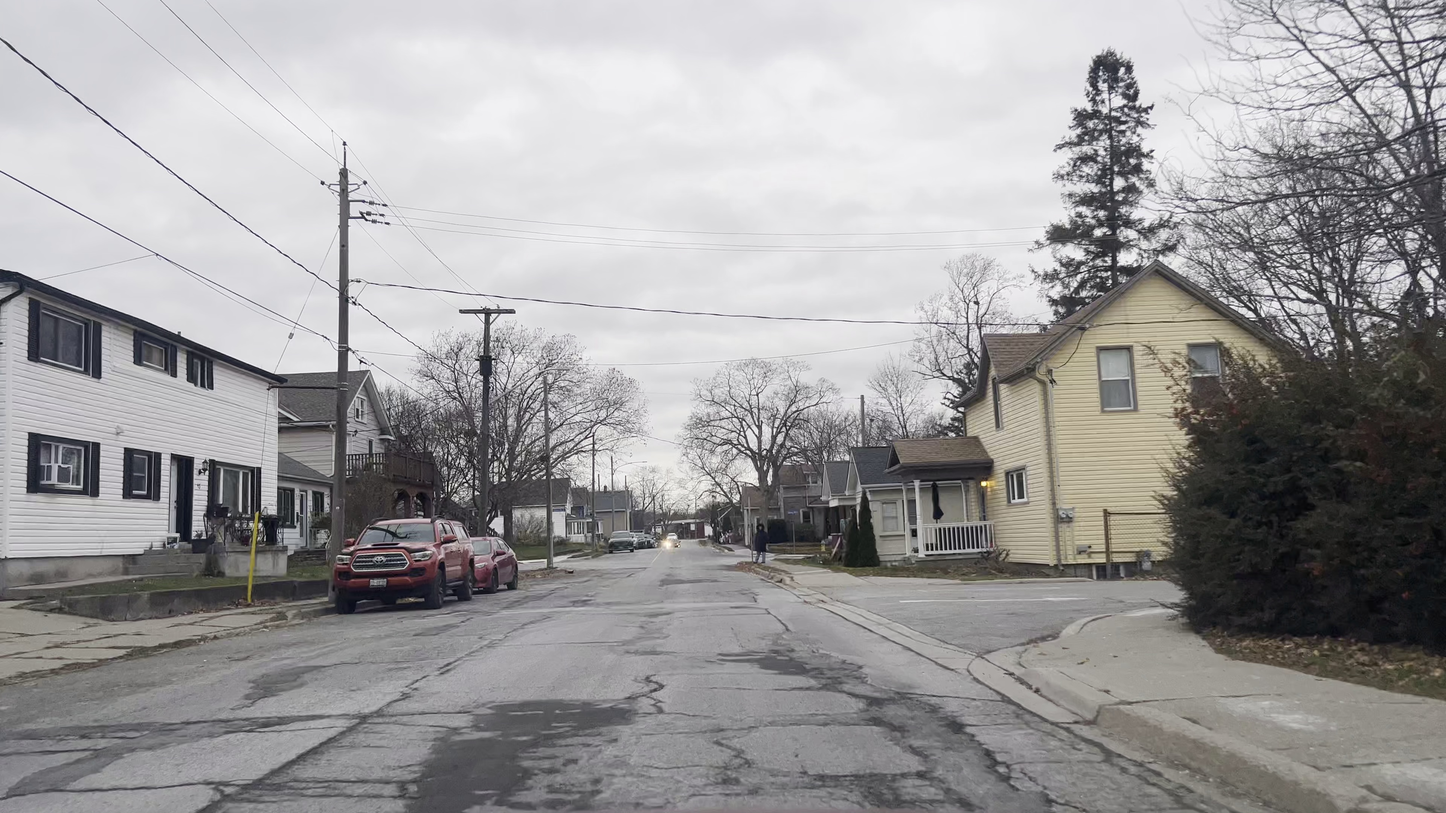cracks: (437, 699, 609, 813), (8, 714, 153, 789), (173, 706, 326, 745), (759, 639, 866, 688)
pothole: (851, 688, 999, 783)
